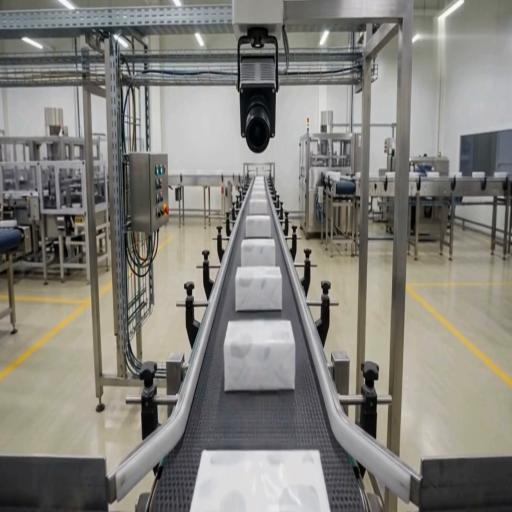good: (191, 451, 329, 511), (224, 320, 295, 391), (236, 267, 283, 312), (241, 239, 275, 266), (246, 216, 271, 238), (250, 199, 268, 215), (251, 191, 266, 200), (255, 176, 264, 182)
